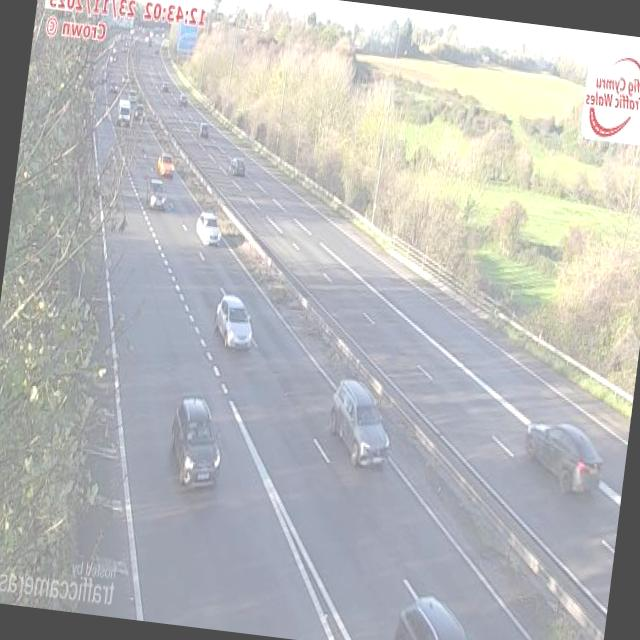foliage: (0, 7, 121, 603), (184, 22, 389, 220), (375, 102, 500, 280), (532, 241, 640, 391), (376, 131, 478, 277), (304, 52, 388, 218), (240, 84, 274, 127), (253, 49, 283, 83)
